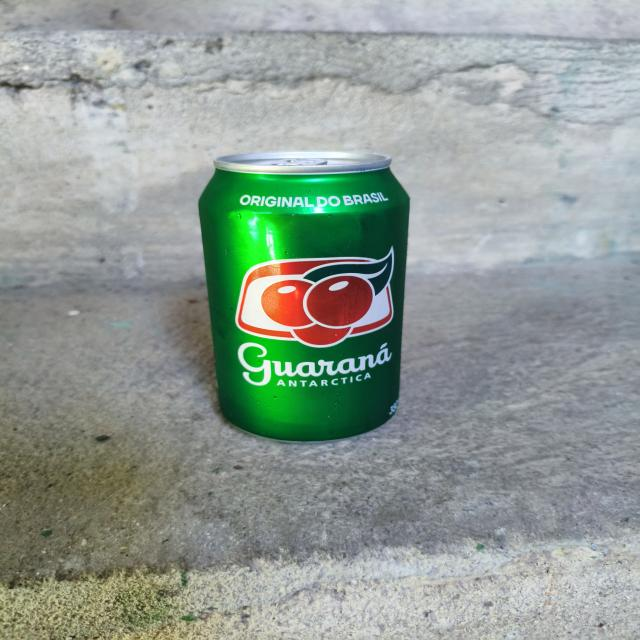Guarana: (181, 138, 439, 458)
